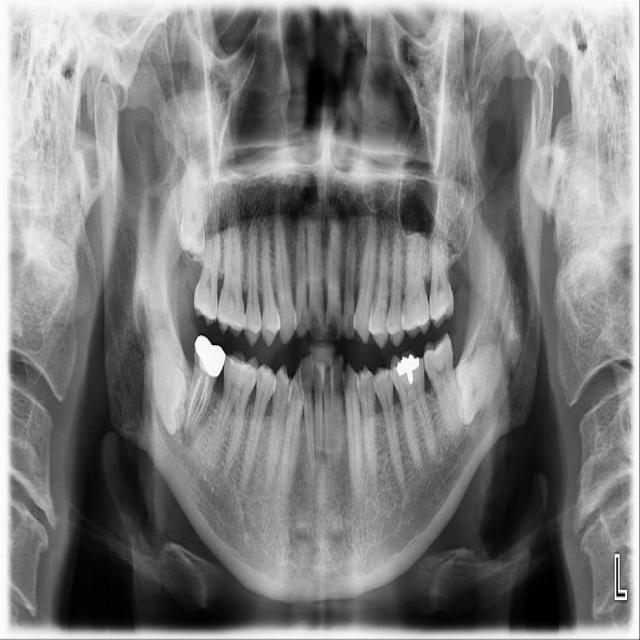3M ESPE Implant: (178, 156, 208, 259)
52: (181, 334, 232, 385), (390, 349, 424, 403)
73: (181, 365, 218, 435), (620, 611, 632, 619)
BioHorizons Implant: (425, 204, 455, 331)
Biomet 3i Implant: (442, 336, 509, 431)
Blue Sky Bio Implant: (419, 332, 467, 442)
Caries: (192, 200, 227, 327)
Implant: (181, 335, 228, 440)
Keystone Dental Implant: (147, 321, 193, 438)
